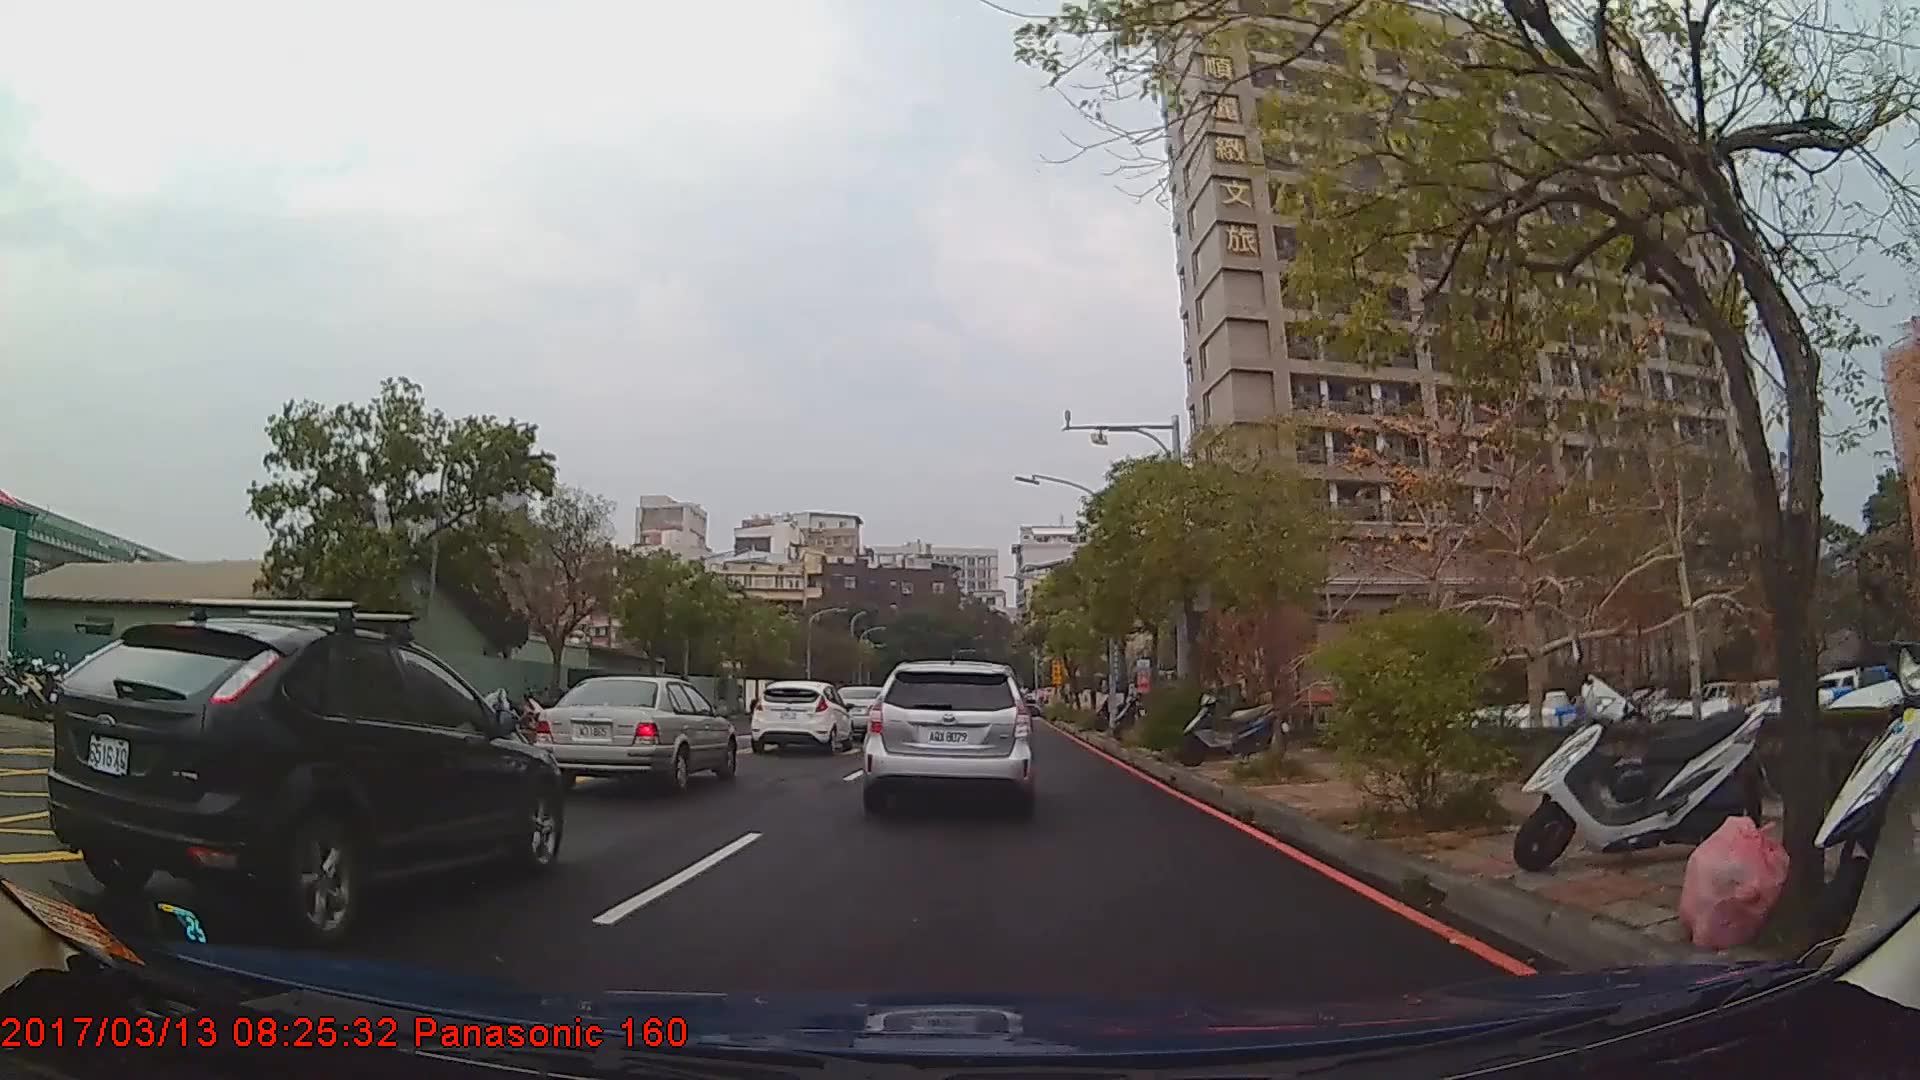vehicle: (45, 618, 564, 942), (861, 659, 1036, 814), (531, 674, 736, 793), (746, 680, 851, 754)
